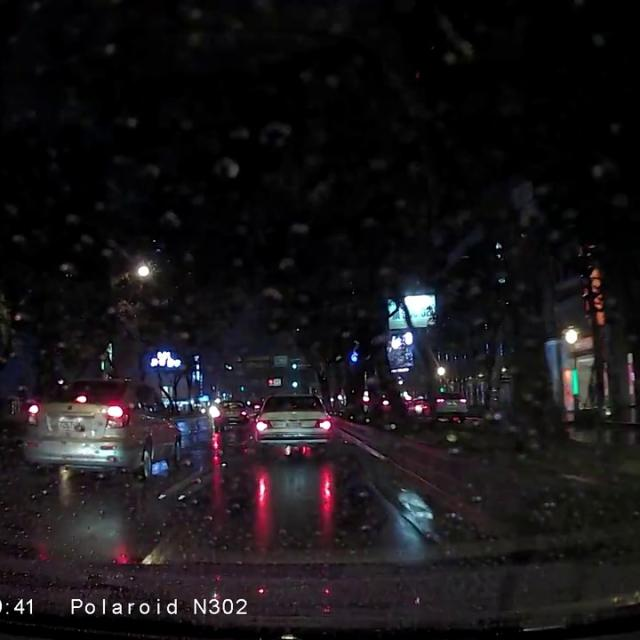Car: (22, 374, 181, 475), (250, 390, 335, 456), (210, 396, 250, 430), (432, 389, 470, 421)
